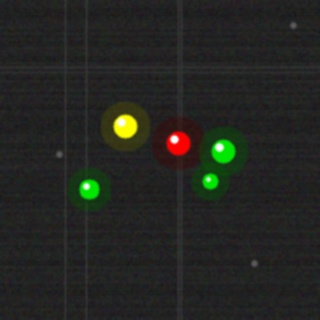green_normal: (209, 137, 237, 165), (77, 177, 101, 201), (200, 171, 220, 191)
red_fault: (164, 129, 192, 157)
yellow_warning: (111, 112, 139, 140)
